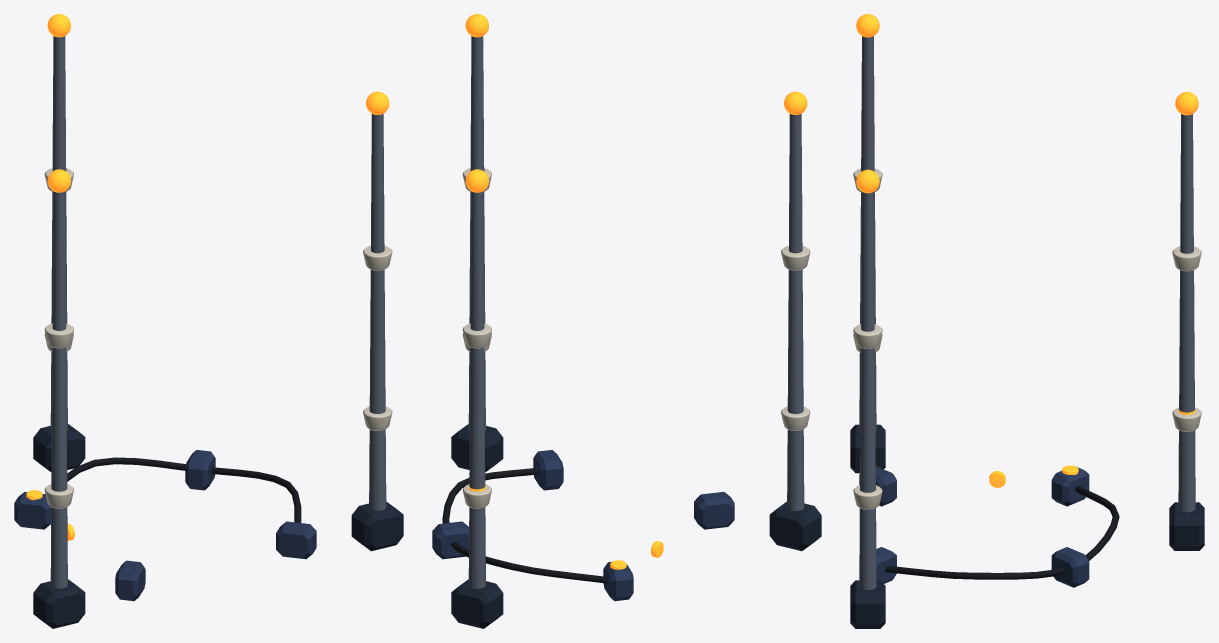
File: tower_overclock_network_s5.glb
3 renders of one model, left to right at view 1: azimuth 30°, elevation 25°; view 2: azimuth 150°, elevation 25°; view 3: azimuth 270°, elevation 25°, orthographic.
Parts seen in each view (by area): view 1: overclock_antenna1, overclock_antenna2, overclock_antenna0, overclock_antenna_foot2, overclock_antenna_foot1, overclock_relay_cable, overclock_antenna_foot0, overclock_relay2, overclock_relay0, overclock_relay3, overclock_relay1, overclock_antenna_insulator21.9 (+1 smaller); view 2: overclock_antenna2, overclock_antenna0, overclock_antenna1, overclock_antenna_foot0, overclock_antenna_foot2, overclock_relay_cable, overclock_antenna_foot1, overclock_relay3, overclock_relay1, overclock_relay2, overclock_relay0, overclock_antenna_insulator01.9 (+1 smaller); view 3: overclock_antenna1, overclock_antenna0, overclock_antenna2, overclock_relay_cable, overclock_antenna_foot1, overclock_antenna_foot0, overclock_relay1, overclock_relay0, overclock_antenna_foot2, overclock_relay3, overclock_relay2, overclock_antenna_insulator01.9 (+3 smaller).
Boxes of the visible parts, x1,y1,x2,y2 form: overclock_antenna1: [369, 114, 386, 510]; overclock_antenna2: [50, 191, 67, 588]; overclock_antenna0: [50, 36, 67, 430]; overclock_antenna_foot2: [33, 579, 85, 628]; overclock_antenna_foot1: [351, 501, 403, 551]; overclock_relay_cable: [67, 457, 301, 522]; overclock_antenna_foot0: [33, 424, 85, 471]; overclock_relay2: [276, 521, 316, 559]; overclock_relay0: [14, 492, 51, 529]; overclock_relay3: [115, 560, 145, 601]; overclock_relay1: [185, 450, 215, 490]; overclock_antenna_insulator21.9: [44, 323, 73, 348]; overclock_antenna2: [787, 114, 804, 510]; overclock_antenna0: [468, 191, 485, 588]; overclock_antenna1: [468, 36, 485, 430]; overclock_antenna_foot0: [451, 579, 503, 628]; overclock_antenna_foot2: [769, 501, 821, 551]; overclock_relay_cable: [442, 467, 607, 583]; overclock_antenna_foot1: [451, 424, 503, 471]; overclock_relay3: [694, 492, 734, 529]; overclock_relay1: [432, 521, 468, 559]; overclock_relay2: [533, 450, 563, 490]; overclock_relay0: [603, 561, 633, 601]; overclock_antenna_insulator01.9: [462, 323, 491, 348]; overclock_antenna1: [859, 192, 876, 589]; overclock_antenna0: [1178, 114, 1195, 512]; overclock_antenna2: [859, 36, 876, 431]; overclock_relay_cable: [885, 485, 1119, 579]; overclock_antenna_foot1: [850, 580, 885, 628]; overclock_antenna_foot0: [1169, 502, 1204, 550]; overclock_relay1: [1051, 547, 1089, 587]; overclock_relay0: [1051, 467, 1089, 506]; overclock_antenna_foot2: [850, 424, 885, 473]; overclock_relay3: [859, 466, 896, 506]; overclock_relay2: [876, 547, 896, 583]; overclock_antenna_insulator01.9: [1172, 246, 1201, 271].
Bounding box in the file's own units: 1.4 × 1.69 × 1.2.
